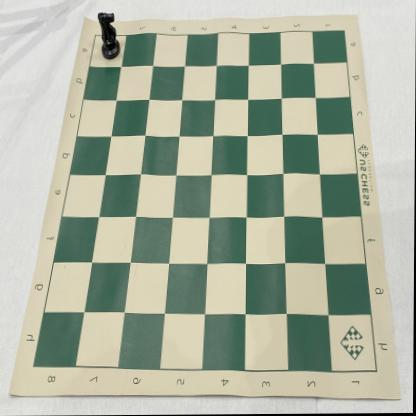black-knight: (98, 11, 121, 61)
